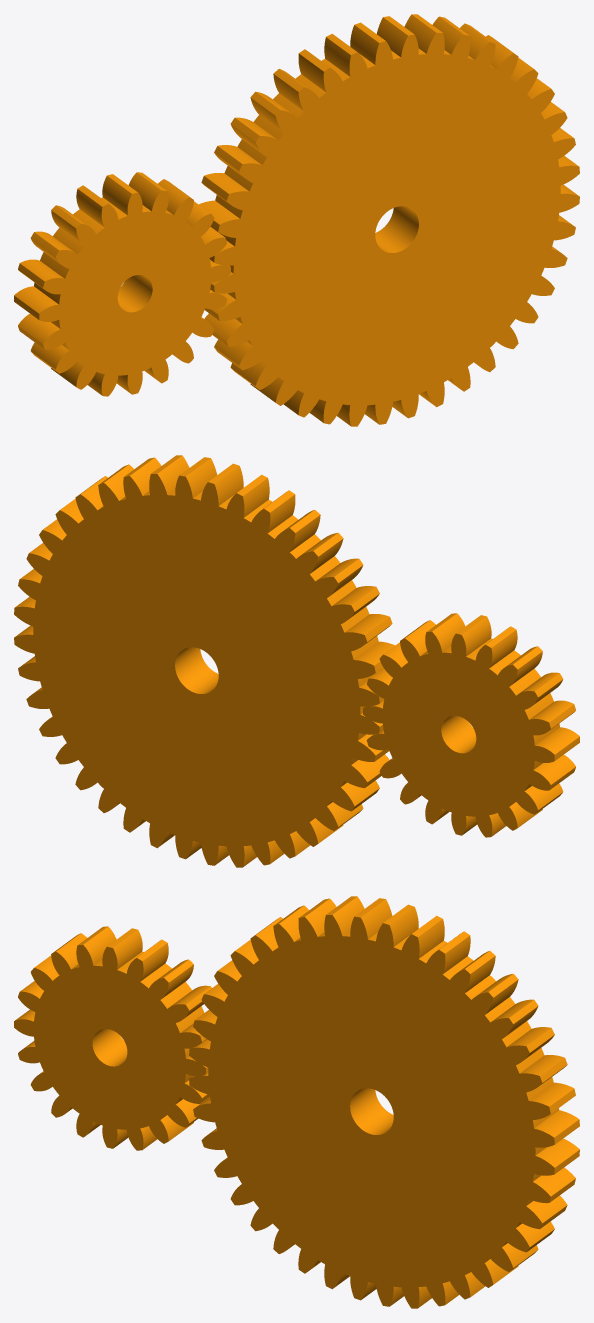
Rendered from assembly.glb.
The picture shows the model from 3 angles, top to bottom: view 1: azimuth 30°, elevation 25°; view 2: azimuth 150°, elevation 25°; view 3: azimuth 330°, elevation 25°; orthographic projection.
Visible parts, largest first — view 1: driven/spur-gear-m2-z40/body, driver/spur-gear-m2-z20/body; view 2: driven/spur-gear-m2-z40/body, driver/spur-gear-m2-z20/body; view 3: driven/spur-gear-m2-z40/body, driver/spur-gear-m2-z20/body.
Part boxes in pixels (bbox=[...]): driven/spur-gear-m2-z40/body: bbox=[199, 14, 579, 426]; driver/spur-gear-m2-z20/body: bbox=[14, 172, 230, 396]; driven/spur-gear-m2-z40/body: bbox=[14, 455, 394, 867]; driver/spur-gear-m2-z20/body: bbox=[363, 613, 579, 837]; driven/spur-gear-m2-z40/body: bbox=[189, 896, 579, 1308]; driver/spur-gear-m2-z20/body: bbox=[14, 926, 211, 1150].
Bounding box in the file's own units: 0.124 × 0.0838 × 0.01.
